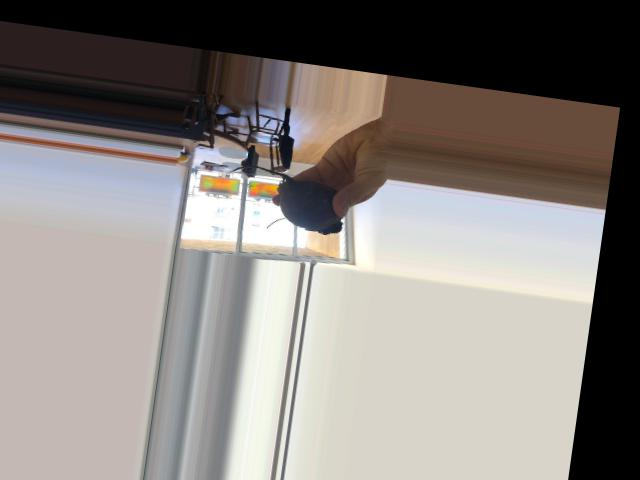beet: (222, 162, 348, 237)
